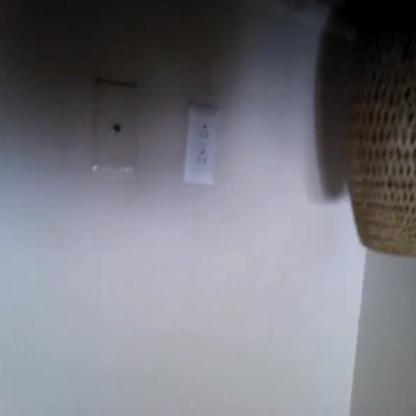OUTLET: (184, 105, 218, 186)
